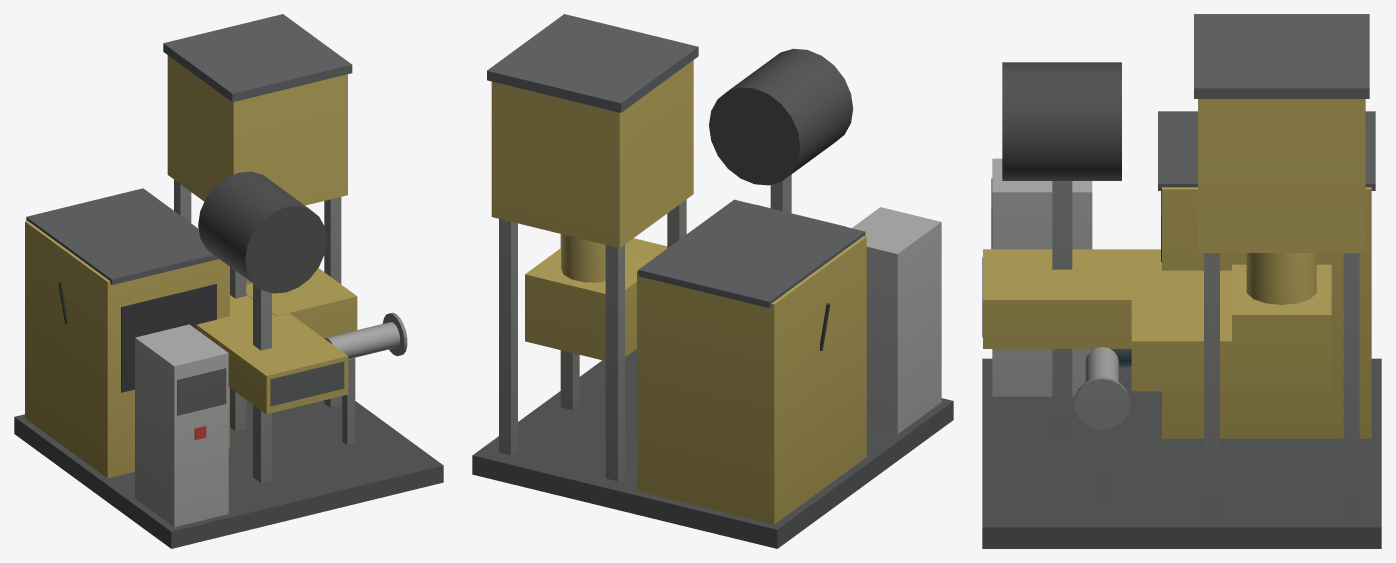
The model's file is qDrive_steel.glb.
The picture shows the model from 3 angles, left to right: view 1: azimuth 30°, elevation 25°; view 2: azimuth 150°, elevation 25°; view 3: azimuth 270°, elevation 25°; orthographic projection. The views are drawn at different scales.
Visible parts, largest first — view 1: qDrive_steel; view 2: qDrive_steel; view 3: qDrive_steel.
Boxes of the visible parts, x1,y1,x2,y2 form: qDrive_steel: [14, 14, 443, 548]; qDrive_steel: [472, 14, 953, 548]; qDrive_steel: [982, 14, 1381, 548].
Bounding box in the file's own units: 2.01 × 2.52 × 2.
